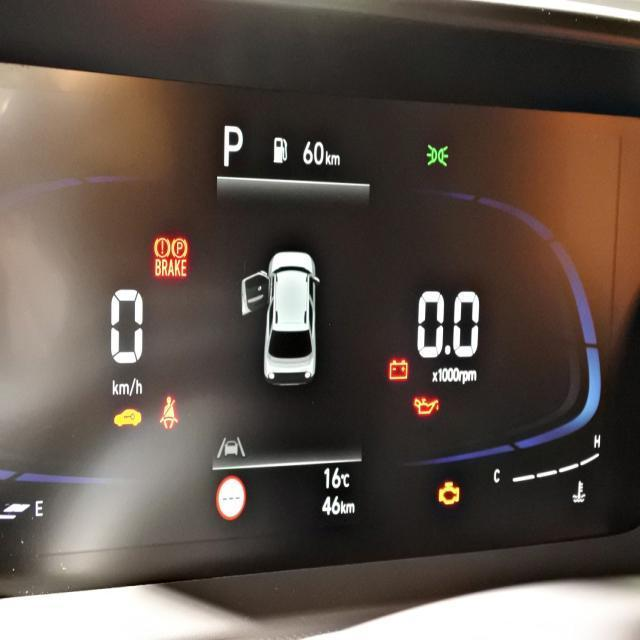SideLamp: (426, 142, 448, 169)
